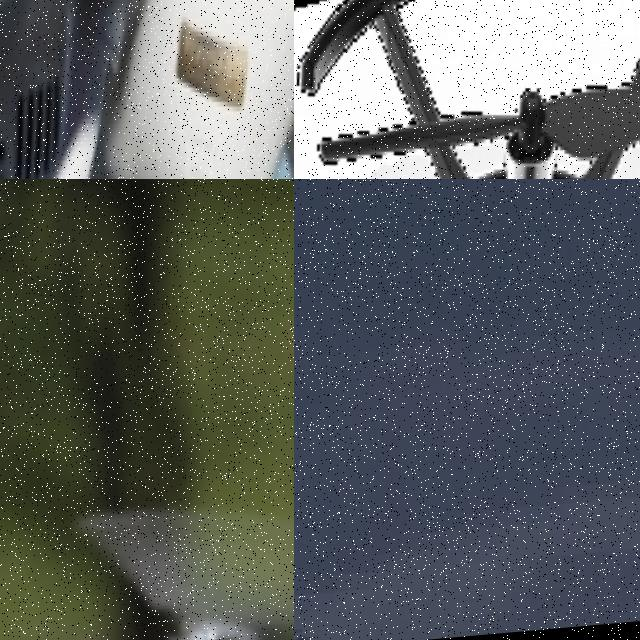drone: (294, 0, 640, 179), (0, 0, 294, 179)
